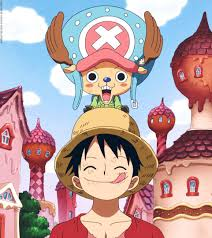chopper: (44, 5, 164, 103)
luffy: (53, 107, 159, 206)
